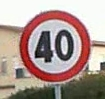limite 40: (17, 9, 90, 84)
